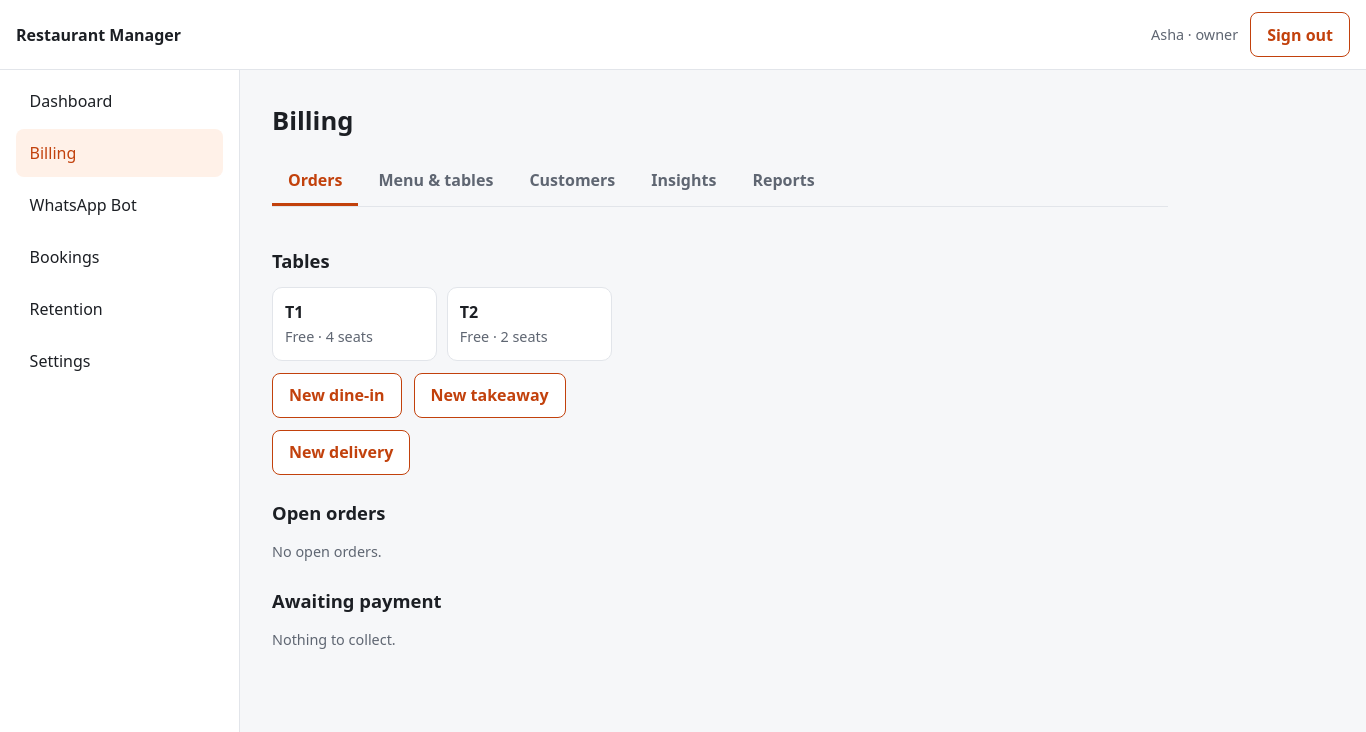
Ordering items with sizes › shows one button per size instead of a single button
Click the button "T1 Free · 4 seats": (355, 324) [272, 287, 437, 361]
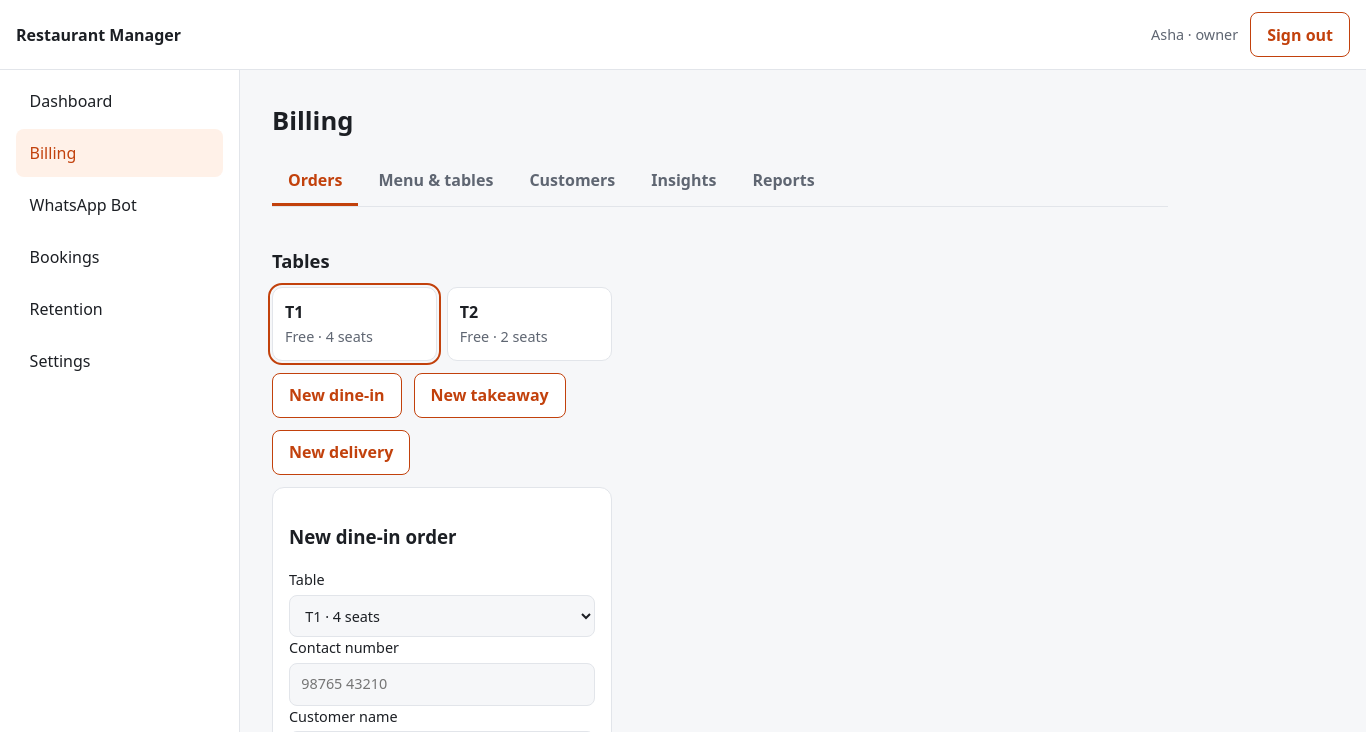
In the field labelled "Contact number": (442, 684) [289, 663, 595, 706], type "9811111111"
(page scrolled)
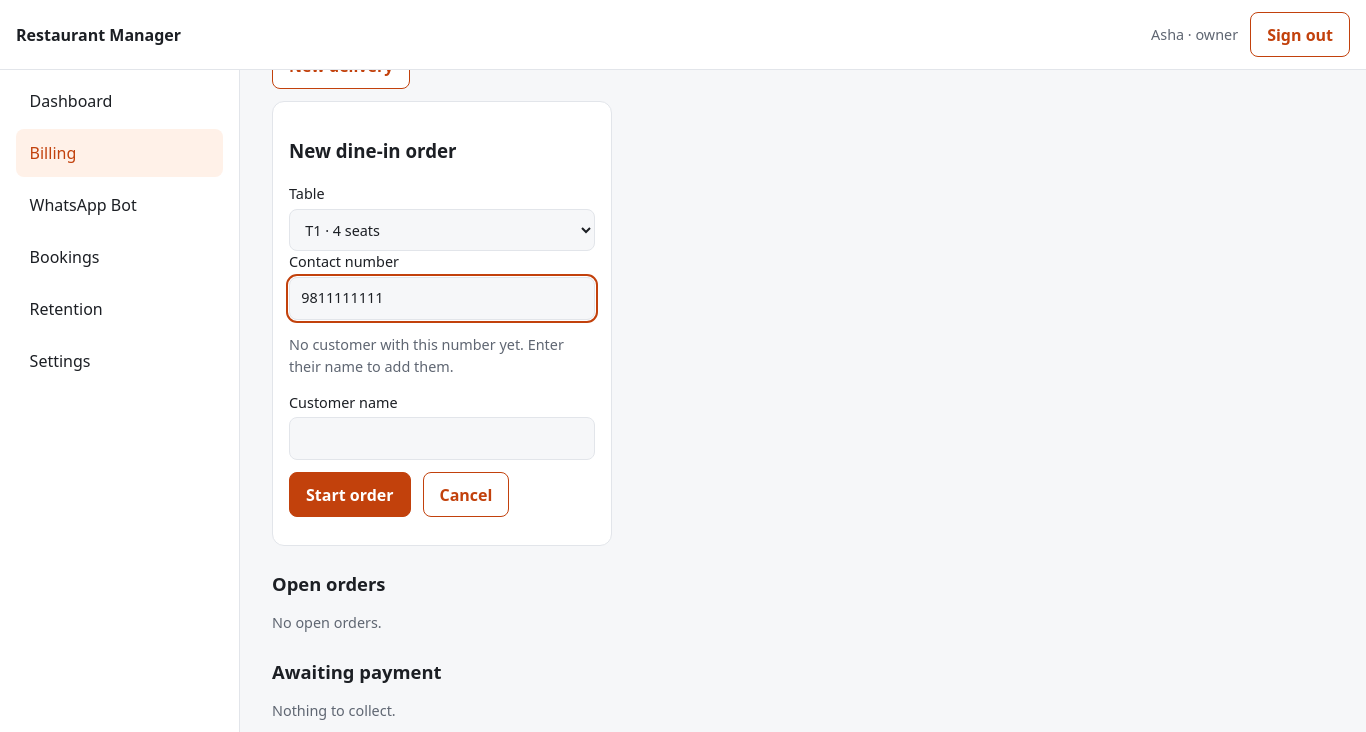
In the field labelled "Customer name": (442, 439) [289, 417, 595, 460], type "Neha"
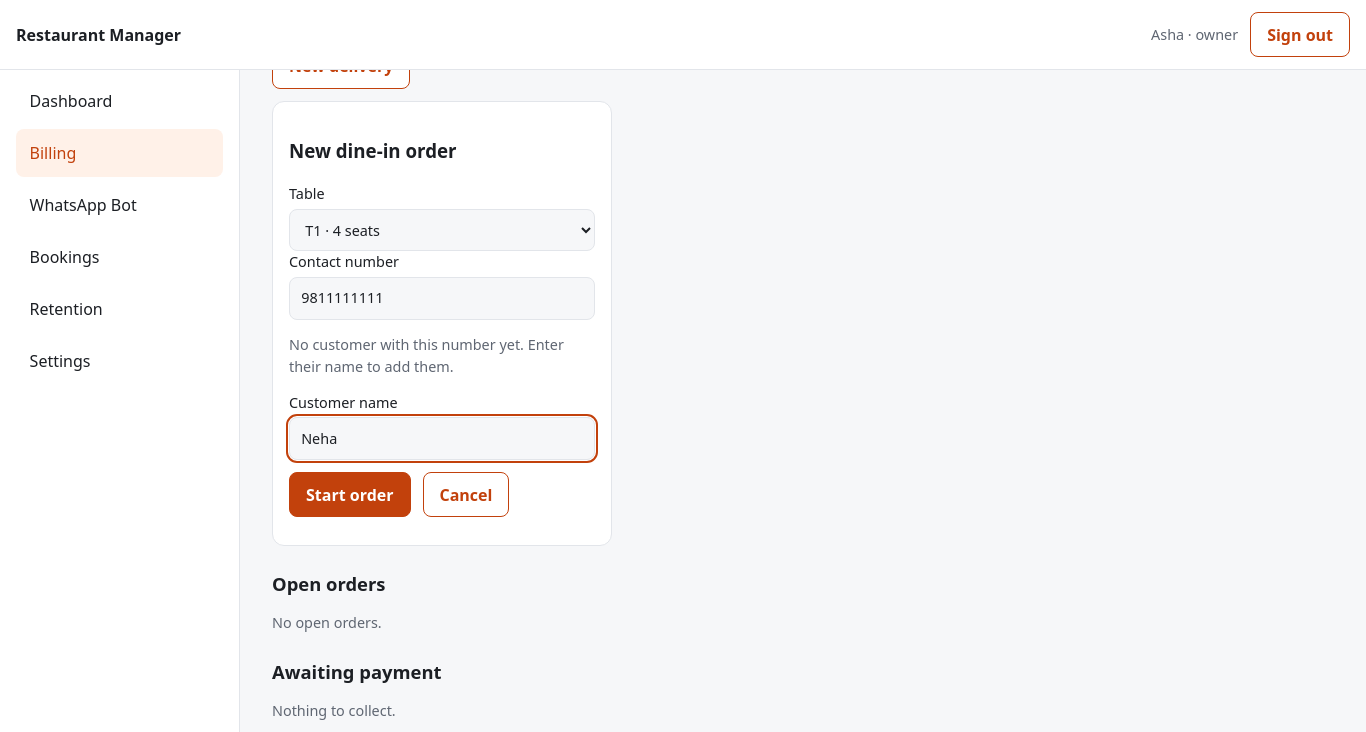
Click the button "Start order": (350, 495) [289, 472, 410, 517]
(page scrolled)
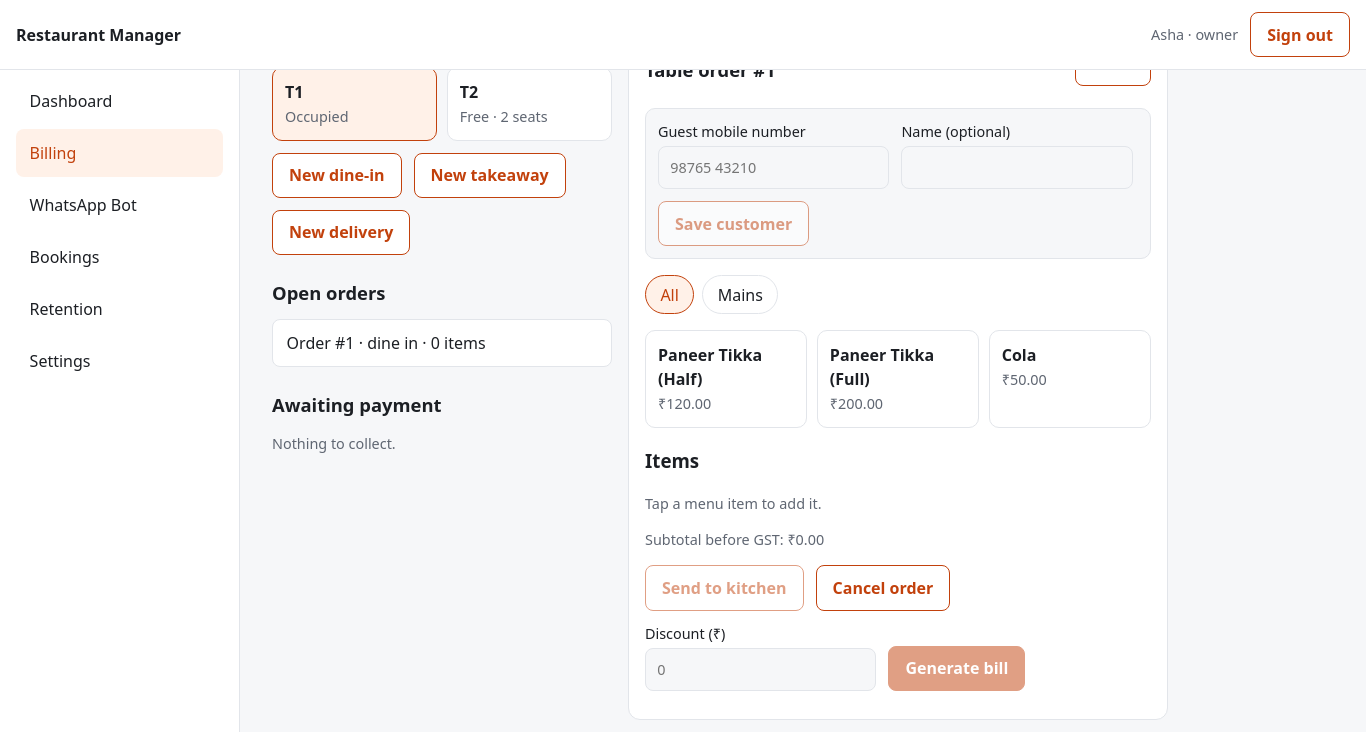
Expected: the heading "Table order #1" is shown, [645, 56, 776, 84]
Expected: the button with aria-label "Add Paneer Tikka (Half)" is shown, [645, 330, 807, 428]
Expected: the button with aria-label "Add Paneer Tikka (Full)" is shown, [817, 330, 979, 428]
